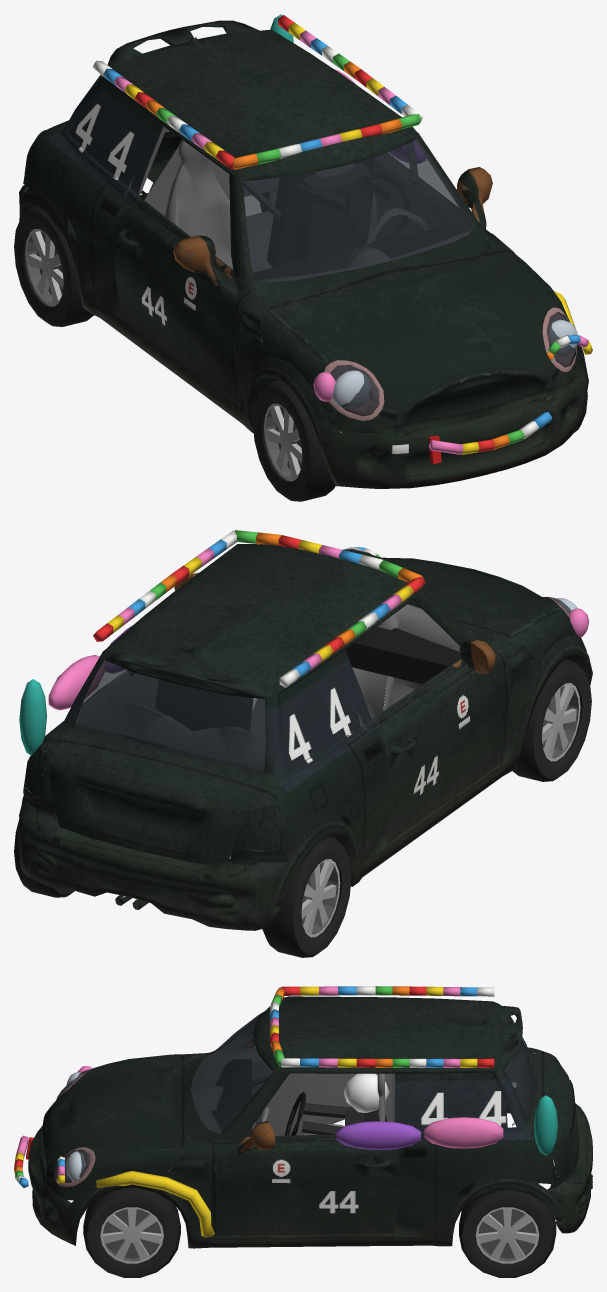
The picture shows the model from 3 angles, top to bottom: view 1: azimuth 30°, elevation 25°; view 2: azimuth 150°, elevation 25°; view 3: azimuth 270°, elevation 25°; orthographic projection. The views are drawn at different scales.
Parts seen in each view (by area): view 1: body, wheel_fr, wheel_rr; view 2: body, wheel_rr, wheel_fr, wheel_rl; view 3: body, wheel_fl, wheel_rl.
Boxes of the visible parts, x1,y1,x2,y2 form: body: [19, 14, 592, 488]; wheel_fr: [252, 380, 339, 501]; wheel_rr: [14, 206, 93, 326]; body: [19, 530, 592, 930]; wheel_rr: [262, 836, 351, 957]; wheel_fr: [512, 659, 591, 781]; wheel_rl: [14, 793, 74, 897]; body: [14, 986, 592, 1248]; wheel_fl: [83, 1188, 180, 1277]; wheel_rl: [459, 1190, 556, 1277].
Bounding box in the file's own units: 1.88 × 1.49 × 3.81.
3 materials, 2 textured.
